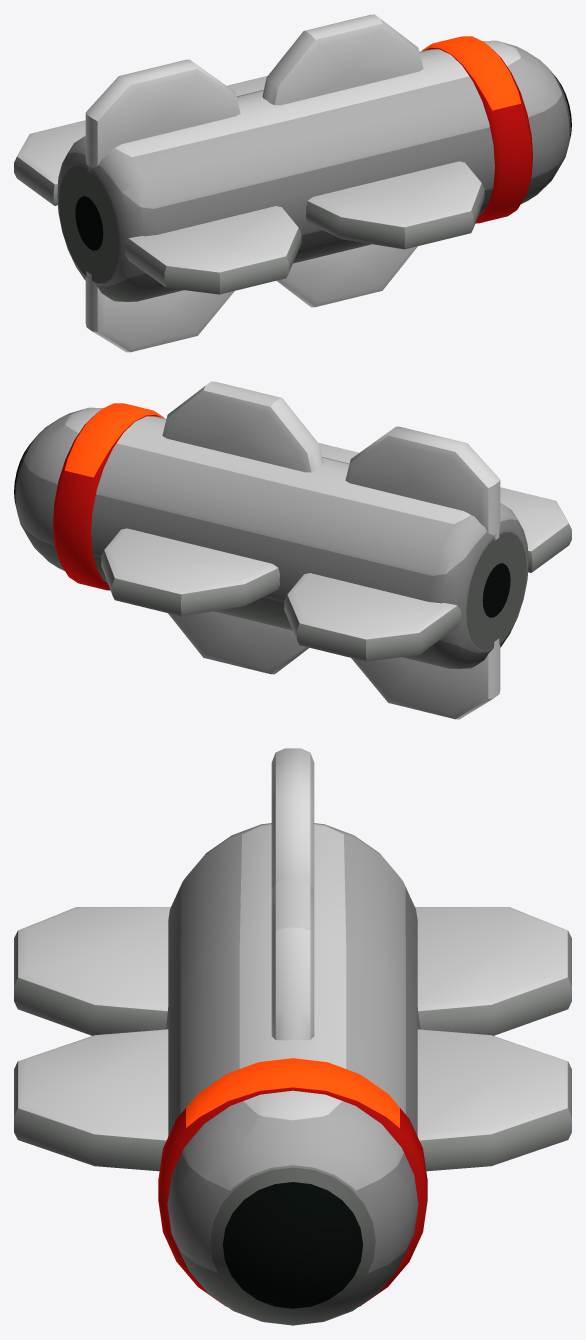
Rendered from white_dart_right.glb.
3 views of the same model, one above another, from view 1: azimuth 30°, elevation 25°; view 2: azimuth 150°, elevation 25°; view 3: azimuth 270°, elevation 25° (orthographic). The views are drawn at different scales.
Visible parts, largest first — view 1: body, fin1l, fin0l, fin0u, fin1u, band, fin0d, fin1d, fin0r, fin1r; view 2: body, fin1r, fin0r, fin0u, fin1u, band, fin0d, fin1d, fin0l, fin1l; view 3: body, fin1l, fin1r, fin0l, fin0r, band, fin1u, fin0u.
Boxes of the visible parts, x1,y1,x2,y2 form: body: (57,40,571,301); fin1l: (306,161,484,249); fin0l: (125,206,301,294); fin0u: (85,59,240,173); fin1u: (262,14,423,105); band: (422,36,533,223); fin0d: (85,271,234,352); fin1d: (276,244,417,307); fin0r: (14,120,85,205); fin1r: (227,76,267,96); body: (14,407,528,668); fin1r: (101,528,279,616); fin0r: (284,573,460,661); fin0u: (345,426,500,539); fin1u: (162,381,323,472); band: (52,403,163,590); fin0d: (351,638,500,719); fin1d: (168,611,309,674); fin0l: (500,487,571,572); fin1l: (318,443,358,463); body: (165,823,420,1325); fin1l: (14,1029,168,1171); fin1r: (417,1029,571,1171); fin0l: (14,907,170,1035); fin0r: (415,907,571,1035); band: (158,1058,427,1306); fin1u: (271,879,314,1040); fin0u: (271,748,314,892).
Size of the model in its own units: 13.05 by 7.18 by 9.2.
